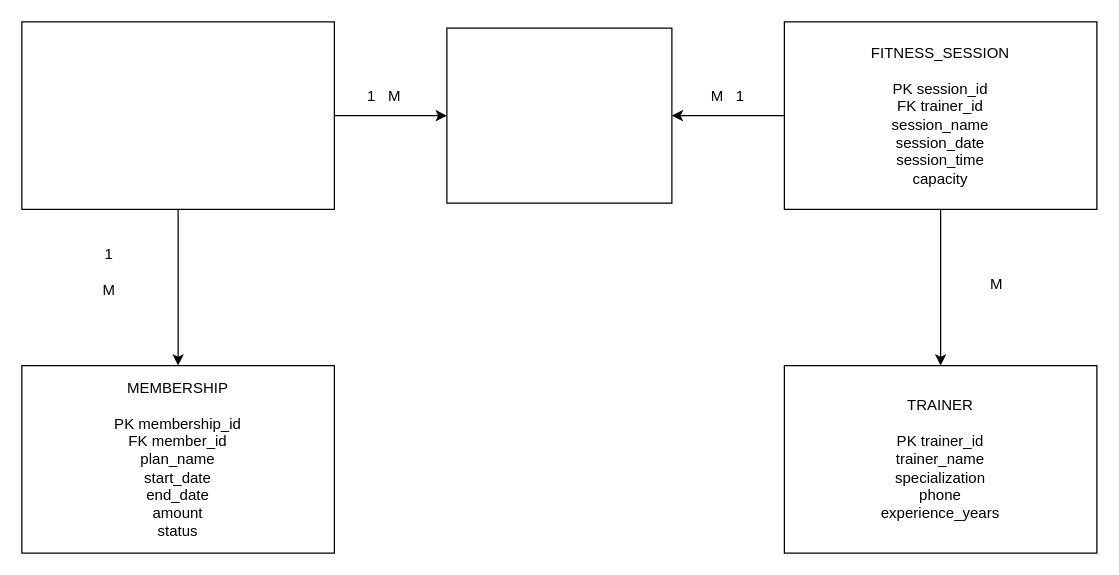
This 1119x575 diagram has some shape labels left out. The shapes that lost their labels are listed below. From the top down, each one's box as (x1, y1, x2, y2) in pixels, then its label:
(21, 21, 334, 209): MEMBER PK member_id name phone email gender join_date status
(446, 27, 672, 203): BOOKING PK booking_id FK member_id FK session_id booking_date booking_status
